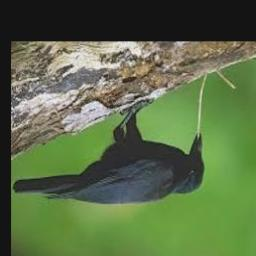Crow: (13, 101, 205, 205)
